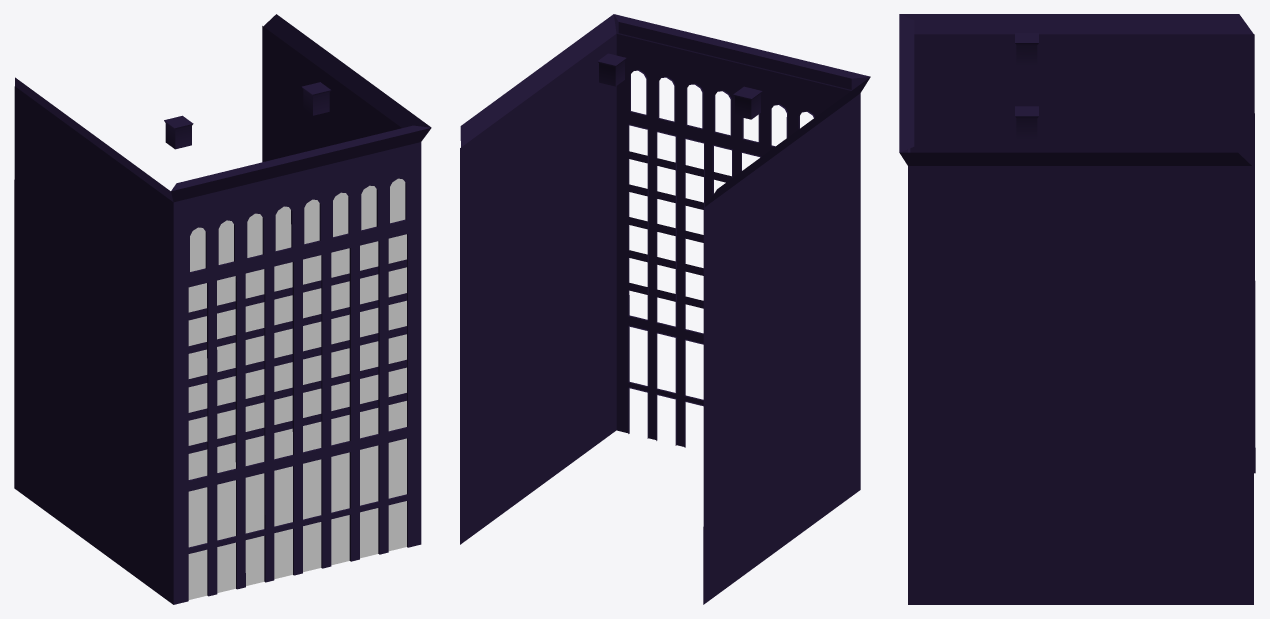
Rendered from building_02.gltf.
The picture shows the model from 3 angles, left to right: view 1: azimuth 30°, elevation 25°; view 2: azimuth 150°, elevation 25°; view 3: azimuth 270°, elevation 25°; orthographic projection. The views are drawn at different scales.
Parts seen in each view (by area): view 1: building_02; view 2: building_02; view 3: building_02.
Boxes of the visible parts, x1=… form: building_02: x1=14, y1=14, x2=431, y2=604; building_02: x1=460, y1=14, x2=870, y2=604; building_02: x1=899, y1=14, x2=1255, y2=604.
Size of the model in its own units: 2.54 by 3.98 by 2.75.
